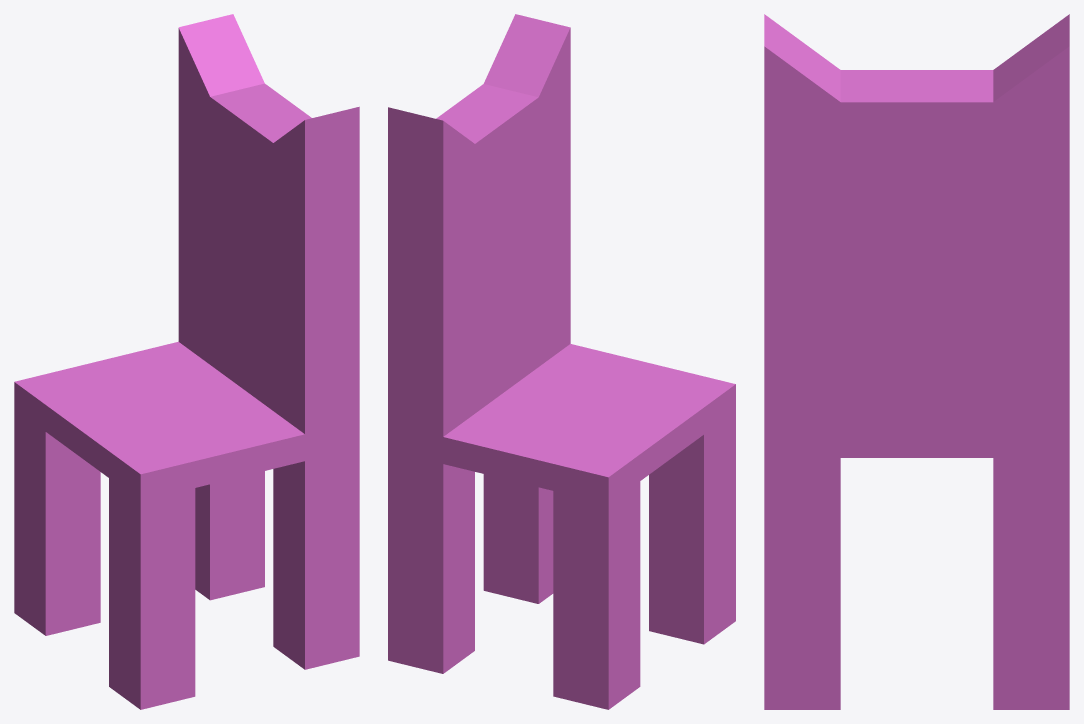
The model's file is testchair.glb.
3 renders of one model, left to right at view 1: azimuth 30°, elevation 25°; view 2: azimuth 150°, elevation 25°; view 3: azimuth 270°, elevation 25°, orthographic. The views are drawn at different scales.
Visible parts, largest first — view 1: Cube; view 2: Cube; view 3: Cube.
Part boxes in pixels (x1,y1,x2,y2): Cube: (14, 14, 359, 709); Cube: (388, 14, 735, 709); Cube: (764, 14, 1069, 709).
Size of the model in its own units: 2 by 4.8 by 2.
